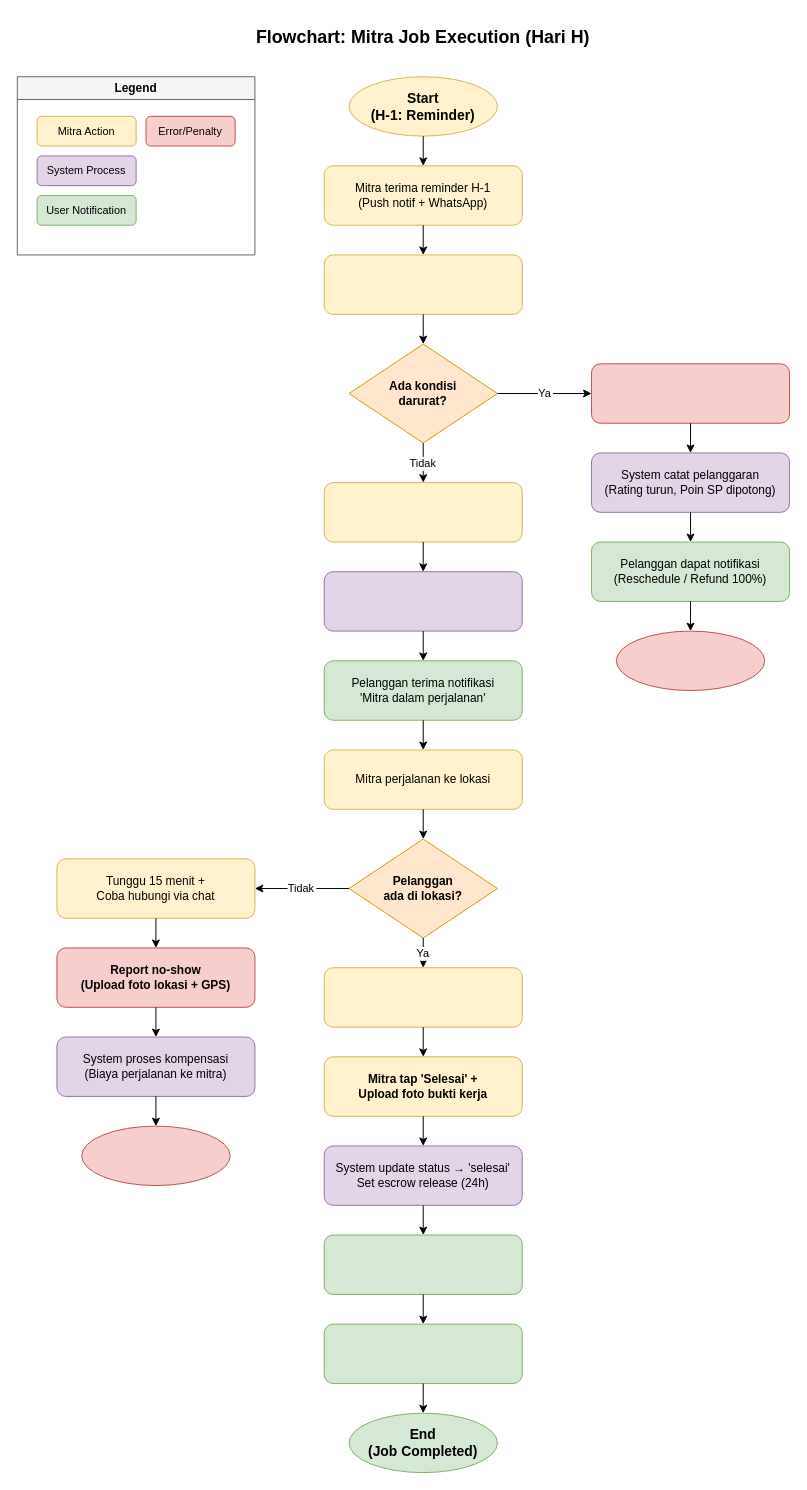
Image size: 807x1490. Some labels were removed from this diagram. Each missing label, with the box of its shape:
Dana cair ke mitra (Status: available): (323, 1323, 522, 1384)
End (No-Show): (81, 1125, 230, 1186)
End (Pembatalan): (615, 630, 765, 691)
Hari H: Mitra tap 'Mulai Perjalanan': (323, 482, 522, 542)
Laporkan pembatalan darurat (Wajib isi alasan): (591, 363, 790, 423)
Mitra cek detail booking (Lokasi, layanan, waktu): (323, 254, 522, 314)
Mitra kerjakan layanan: (323, 967, 522, 1027)
Pelanggan konfirmasi atau 24h auto-release: (323, 1234, 522, 1294)
System update status → 'berlangsung': (323, 571, 522, 631)
